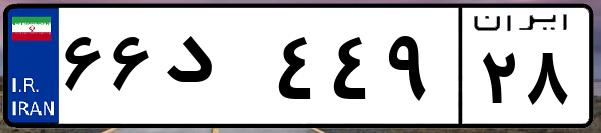2: (475, 38, 525, 113)
4: (270, 28, 330, 110), (330, 28, 385, 110)
6: (57, 26, 110, 100), (110, 28, 158, 98)
8: (525, 38, 570, 115)
9: (385, 28, 445, 110)
د: (158, 20, 270, 120)
